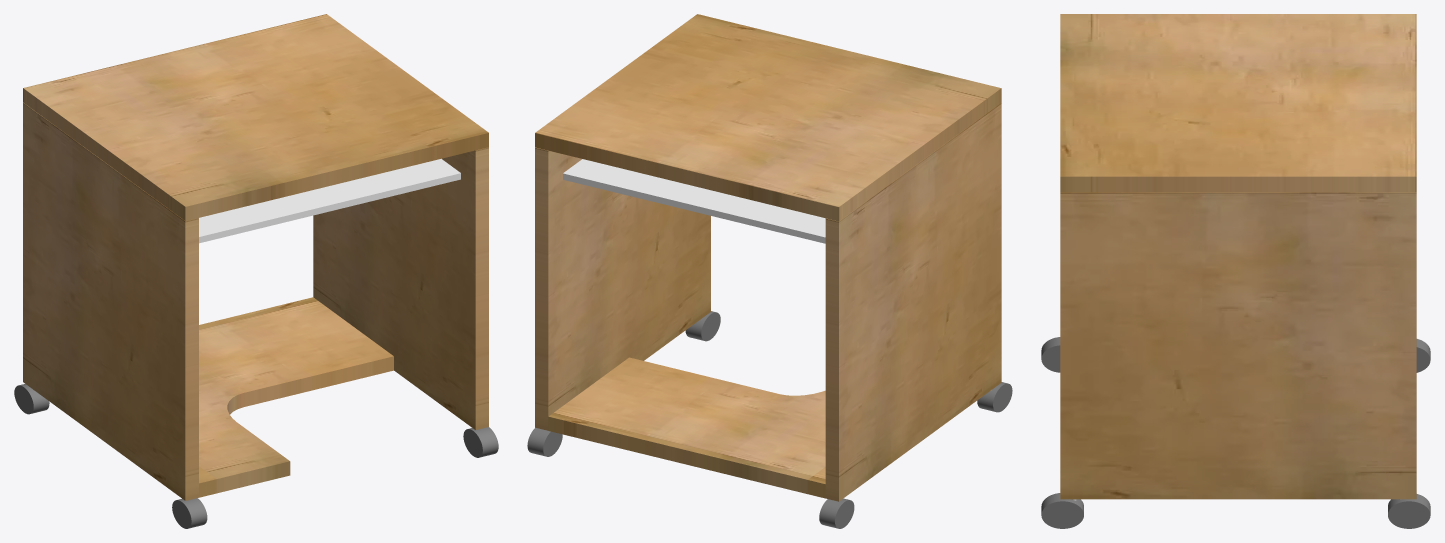
File: sh-contrib-bureau-info-clair.glb
3 renders of one model, left to right at view 1: azimuth 30°, elevation 25°; view 2: azimuth 150°, elevation 25°; view 3: azimuth 270°, elevation 25°, orthographic. The views are drawn at different scales.
Parts seen in each view (by area): view 1: Cube_17_1, Cube_19_5, Cylinder_9_6; view 2: Cube_17_1, Cube_19_5, Cylinder_9_6; view 3: Cube_17_1, Cylinder_9_6.
Boxes of the visible parts, box(x1,y1,x2,y2) form: Cube_17_1: box(23, 14, 488, 500); Cube_19_5: box(199, 158, 460, 243); Cylinder_9_6: box(14, 384, 498, 528); Cube_17_1: box(535, 14, 1001, 501); Cube_19_5: box(563, 159, 825, 243); Cylinder_9_6: box(527, 311, 1012, 528); Cube_17_1: box(1060, 14, 1416, 499); Cylinder_9_6: box(1041, 337, 1430, 528).
Bounding box in the file's own units: 1 × 1 × 1.
4 materials, 1 textured.
